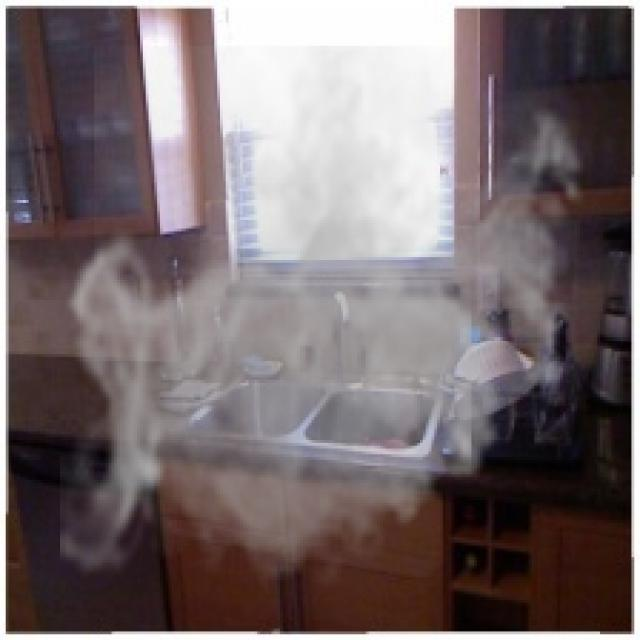smoke: (60, 46, 600, 600)
